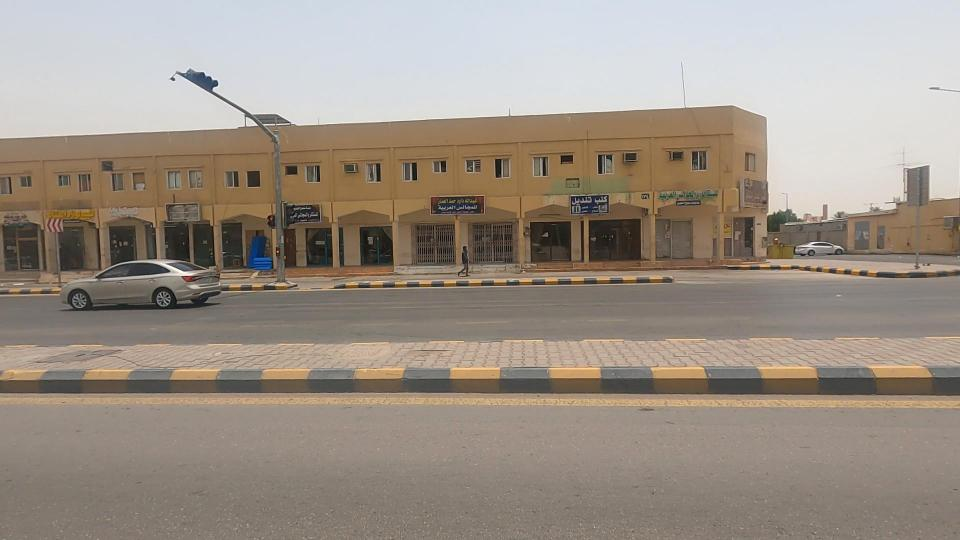GARBAGE: (129, 165, 231, 257)
